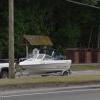Boat: (18, 50, 75, 78)
